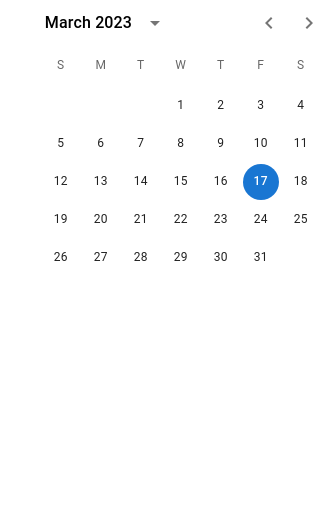
Test: handle date clicked and show list › search a name
Step 1. Click the cell "15" → click(181, 182), box [163,164,199,200]
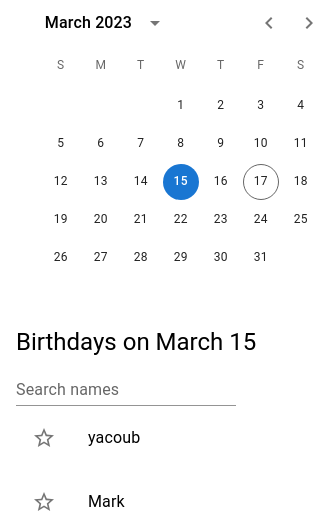
Step 2. Type "yacoub" into the field → (126, 390), box [16,374,236,406]
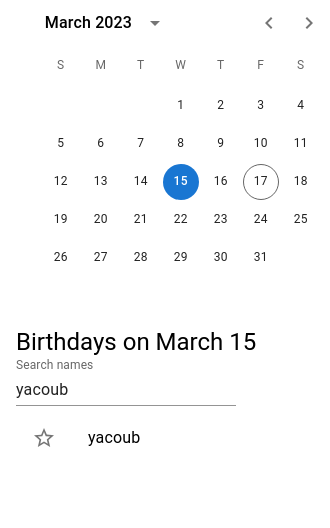
Now the text "yacoub" is shown, box [88,428,140,447]
Now the text "Mark" is gone
